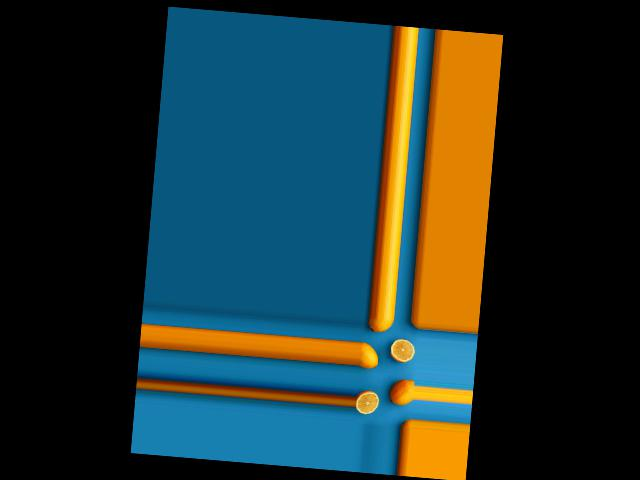lemon: (369, 317, 395, 335)
